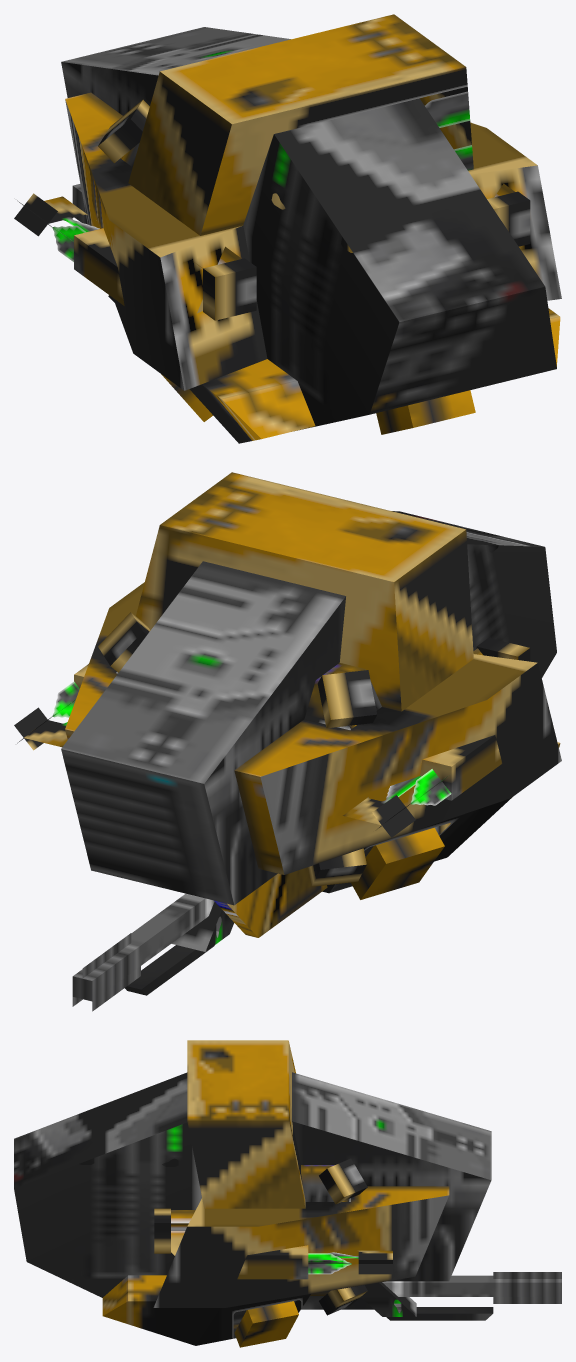
The model's file is astro_miner_full_off.obj.
3 renders of one model, top to bottom at view 1: azimuth 30°, elevation 25°; view 2: azimuth 150°, elevation 25°; view 3: azimuth 270°, elevation 25°, orthographic. The views are drawn at different scales.
Visible parts, largest first — view 1: Hull, HoverPad, Lasers_Main_Laser_Base; view 2: Hull, HoverPad, Lasers_Main_Laser_Base, Main_Laser_Front, Main_Laser_Left_Guard, Main_Laser_Center; view 3: Hull, HoverPad, Main_Laser_Front, Lasers_Main_Laser_Base, Main_Laser_Center.
Boxes of the visible parts, x1,y1,x2,y2 form: Hull: (61,14,561,443); HoverPad: (98,99,530,434); Lasers_Main_Laser_Base: (14,193,124,305); Hull: (61,472,561,905); HoverPad: (98,612,530,899); Lasers_Main_Laser_Base: (14,664,502,837); Main_Laser_Front: (72,893,214,1011); Main_Laser_Left_Guard: (214,867,327,937); Main_Laser_Center: (171,901,233,951); Hull: (14,1040,491,1345); HoverPad: (154,1158,367,1347); Main_Laser_Front: (382,1272,561,1320); Lasers_Main_Laser_Base: (237,1245,392,1309); Main_Laser_Center: (361,1282,416,1316).
Bounding box in the file's own units: 36.25 × 30.94 × 64.84.
